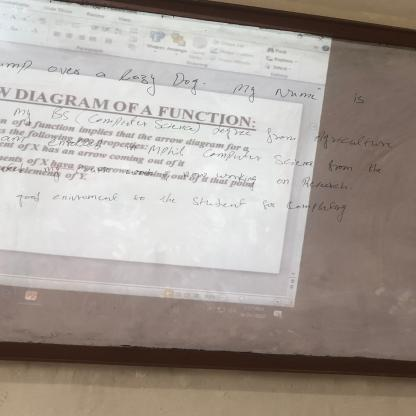Handwritten text: (8, 98, 398, 159), (43, 57, 378, 118), (43, 132, 386, 178), (36, 161, 361, 204), (11, 188, 351, 227)
Whiteboard: (0, 2, 416, 371)
